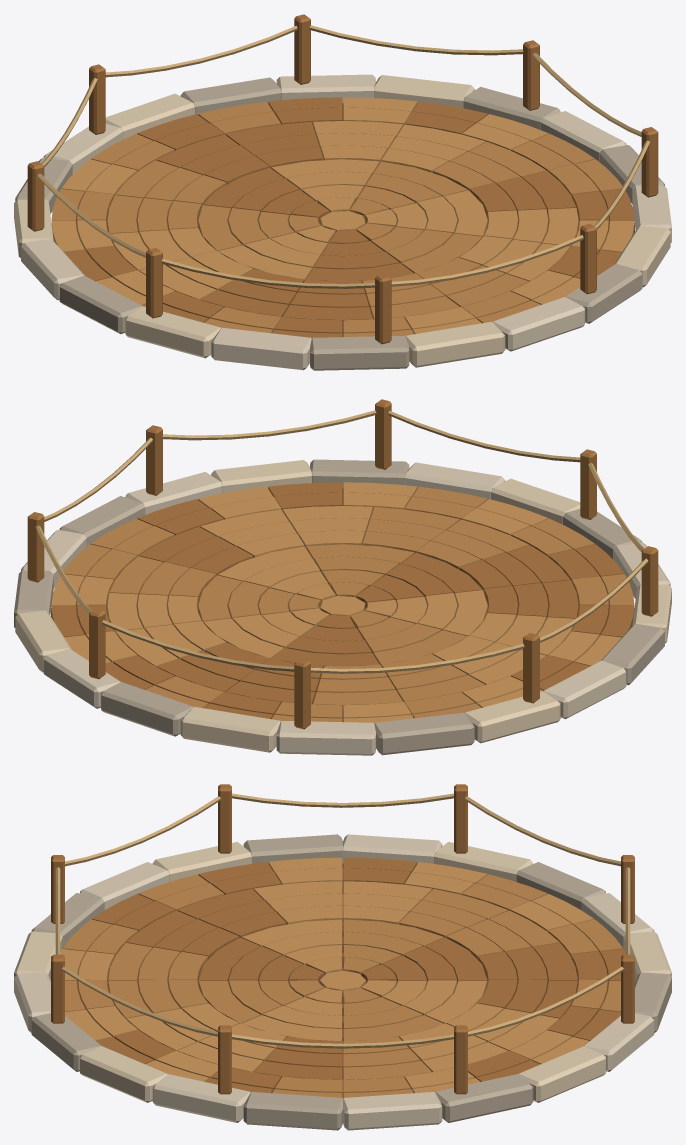
File: mod_lighthouse_floor.glb
3 renders of one model, top to bottom at view 1: azimuth 30°, elevation 25°; view 2: azimuth 150°, elevation 25°; view 3: azimuth 270°, elevation 25°, orthographic.
Parts seen in each view (by area): view 1: mod_lighthouse_floor; view 2: mod_lighthouse_floor; view 3: mod_lighthouse_floor.
Part boxes in pixels (x1=…): mod_lighthouse_floor: x1=14, y1=14, x2=671, y2=370; mod_lighthouse_floor: x1=14, y1=399, x2=671, y2=755; mod_lighthouse_floor: x1=14, y1=784, x2=671, y2=1130.
Size of the model in its own units: 5.67 by 0.82 by 5.67.
